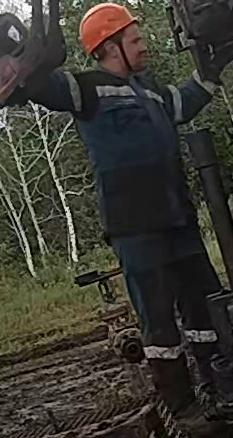helmet: (78, 2, 139, 57)
vest: (69, 68, 196, 240)
